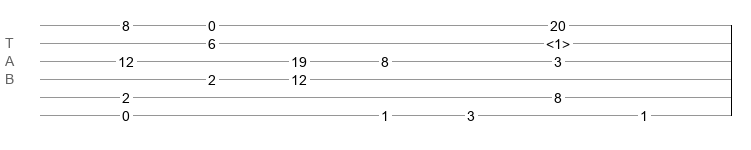0: (122, 108, 130, 118), (208, 18, 216, 28)
1: (381, 108, 389, 118), (640, 108, 648, 118)
12: (118, 54, 134, 64), (291, 72, 307, 82)
19: (291, 54, 307, 64)
2: (122, 90, 130, 100), (208, 72, 216, 82)
20: (550, 18, 566, 28)
3: (467, 108, 475, 118), (554, 54, 562, 64)
6: (208, 36, 216, 46)
8: (122, 18, 130, 28), (381, 54, 389, 64), (554, 90, 562, 100)
harmonic: (546, 36, 570, 46)
